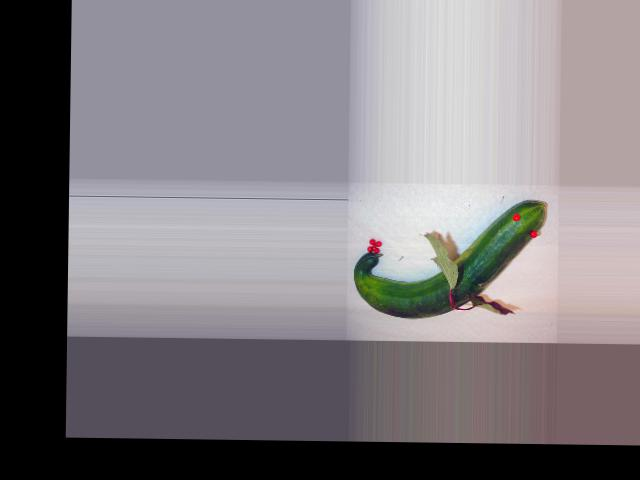cucumber: (352, 197, 544, 320)
